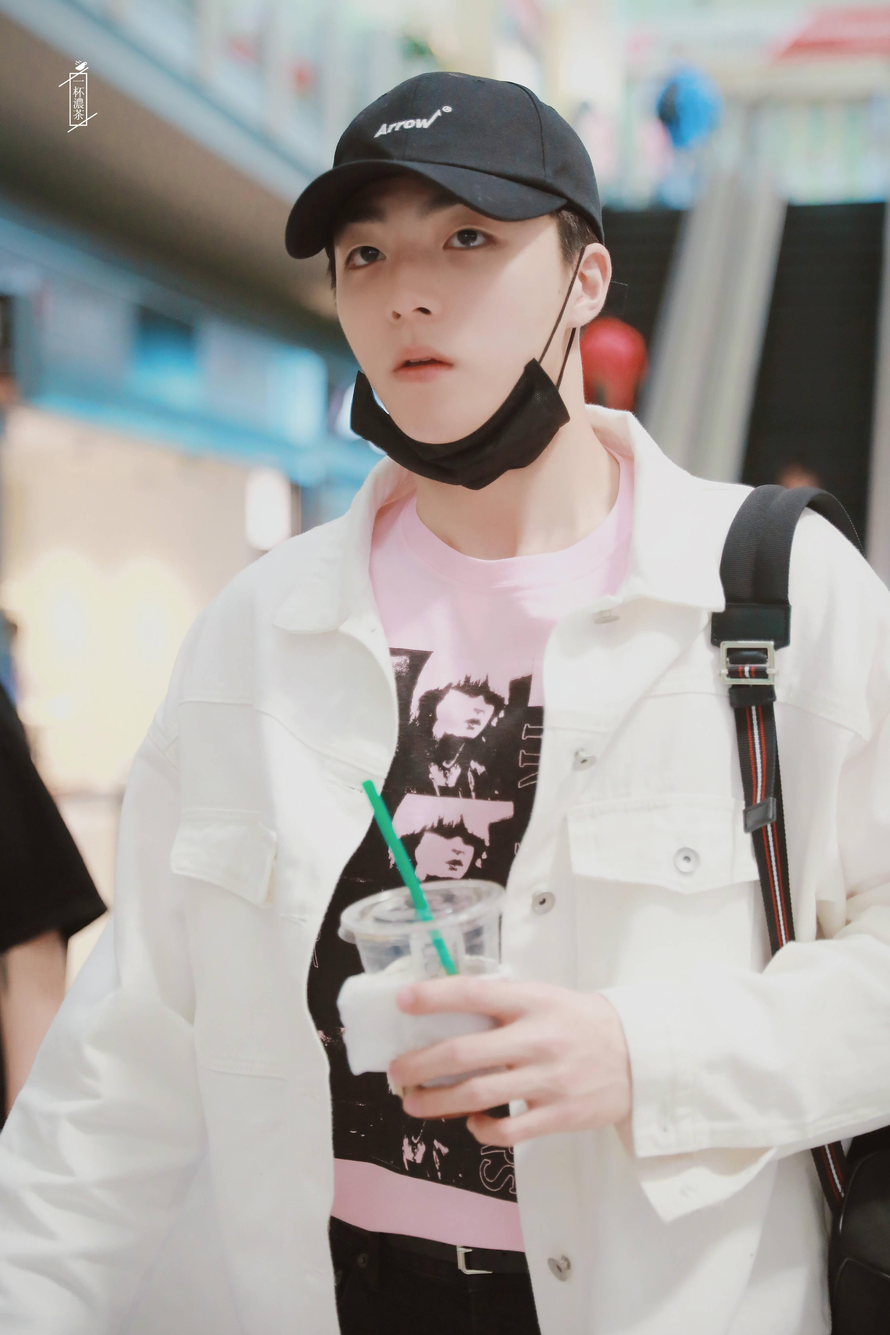WRONG: (331, 165, 549, 453)
